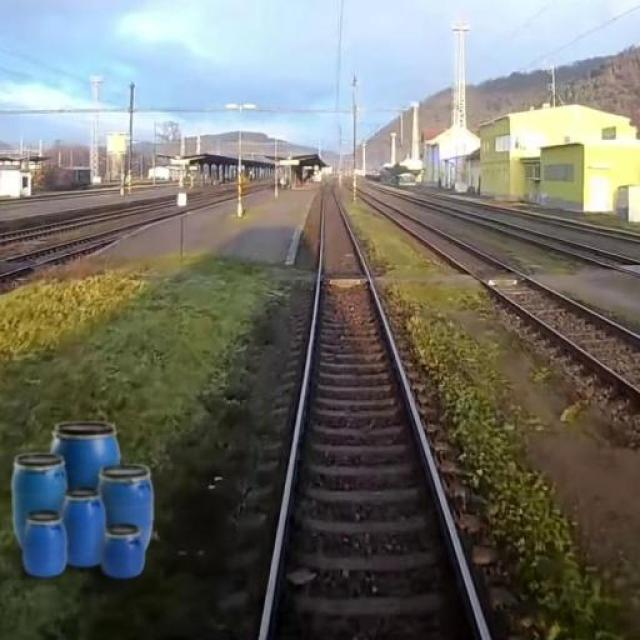Other_objects: (5, 401, 168, 584)
